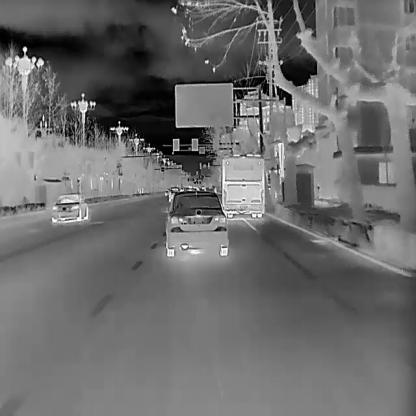car: (162, 188, 229, 256), (221, 152, 265, 217), (52, 192, 89, 222)
